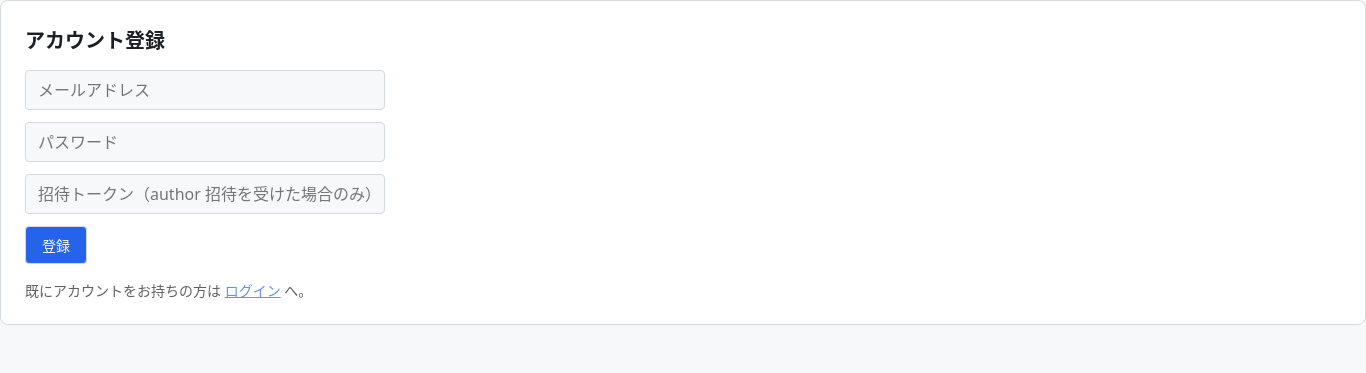
AuthForm › register shows a 409 duplicate inline and skips auto-login
Type "taken@example.com" into the field with test id "auth-email" at (205, 90), box [25,70,385,110]
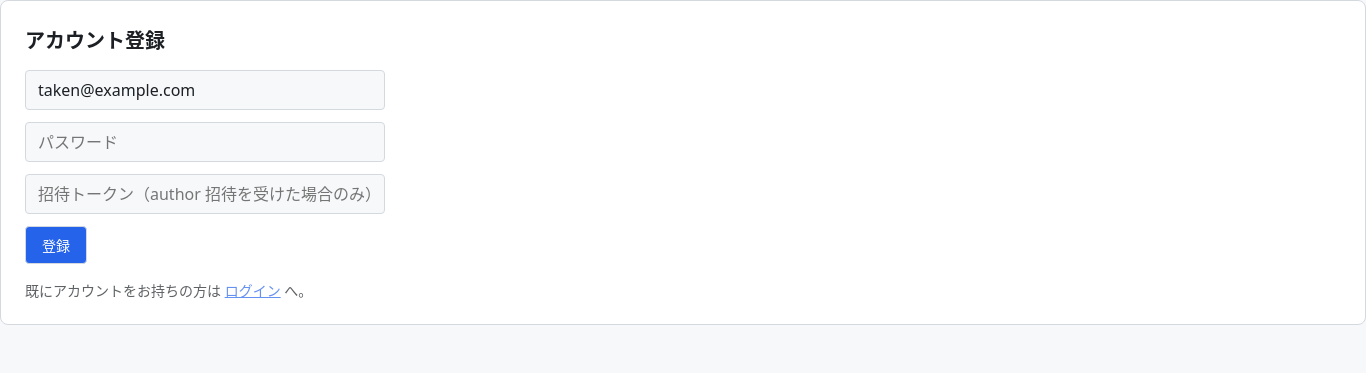
Type "secret" into the password field with test id "auth-password" at (205, 142), box [25,122,385,162]
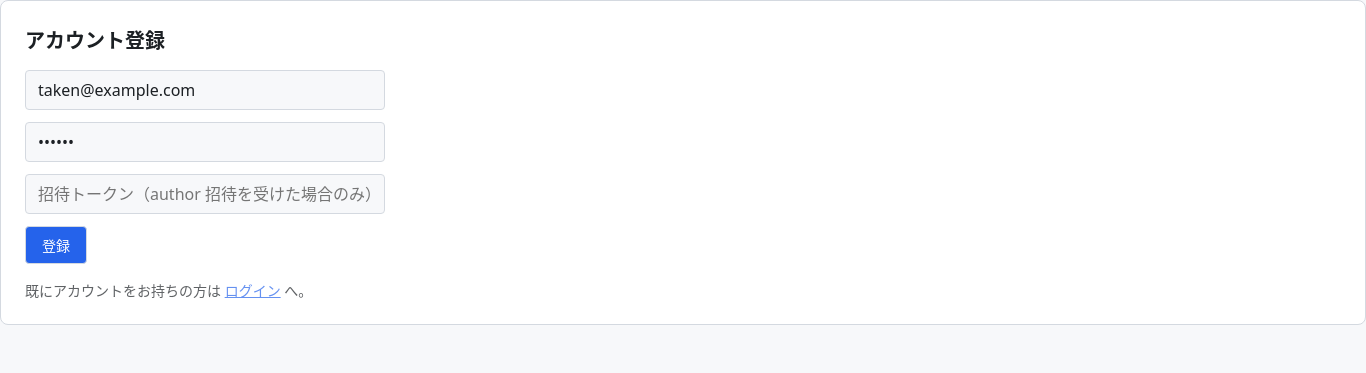
Click the button with test id "auth-submit" at (56, 245), box [25,226,87,264]
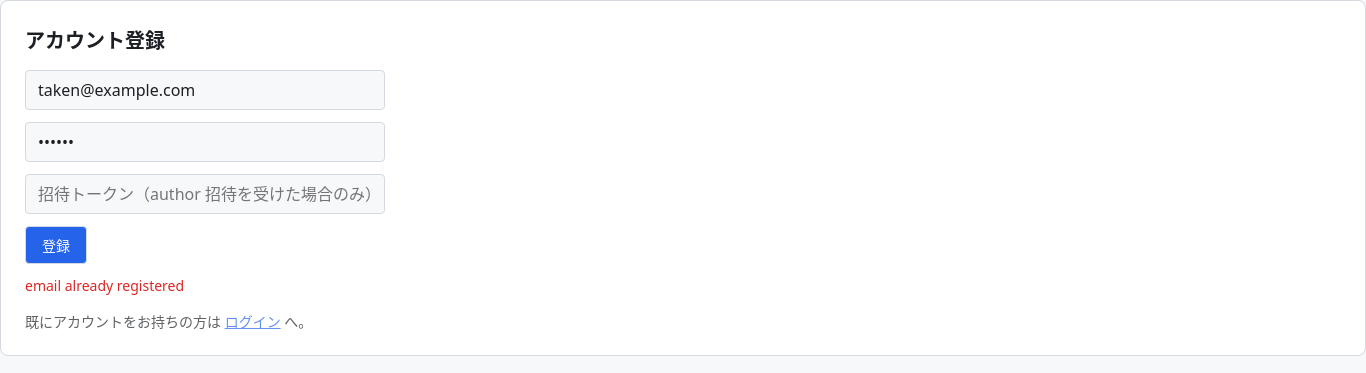
Expected: the message with test id "auth-error" reads "email already registered", [25,276,184,295]
